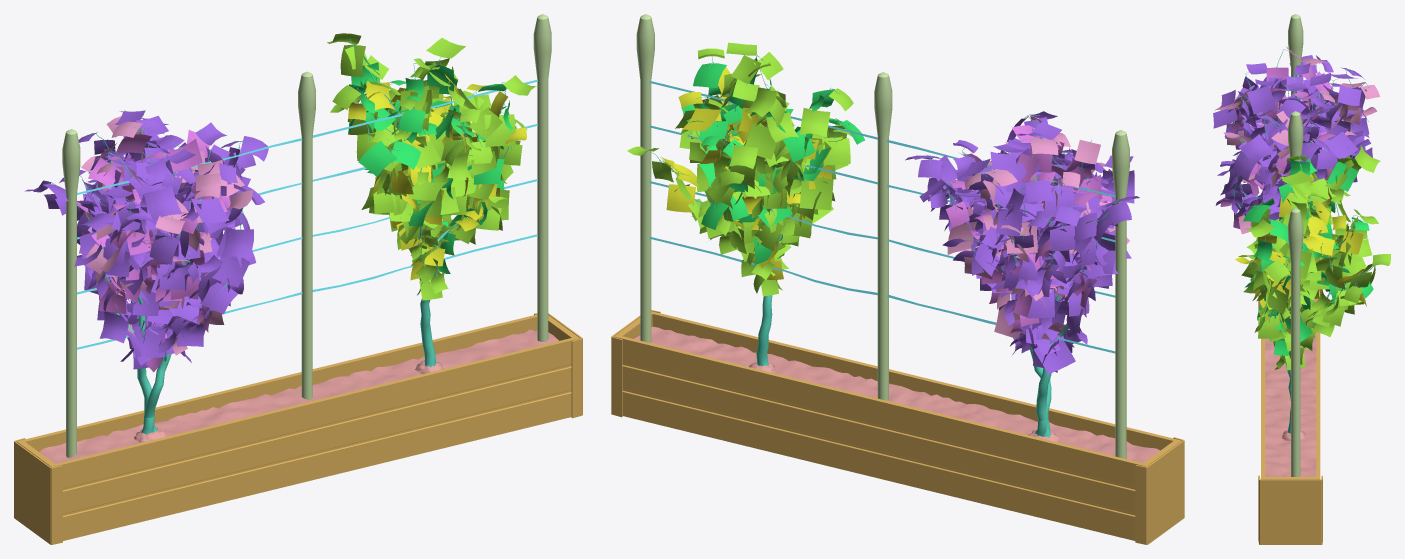
The model's file is windowPlant.fbx.
3 views of the same model, side by side, from view 1: azimuth 30°, elevation 25°; view 2: azimuth 150°, elevation 25°; view 3: azimuth 270°, elevation 25° (orthographic). The views are drawn at different scales.
Parts seen in each view (by area): view 1: windowPlant; view 2: windowPlant; view 3: windowPlant.
Boxes of the visible parts, bbox=[...] form: windowPlant: bbox=[14, 14, 582, 544]; windowPlant: bbox=[611, 14, 1184, 544]; windowPlant: bbox=[1213, 14, 1390, 544].
Size of the model in its own units: 222 by 156 by 76.27.
